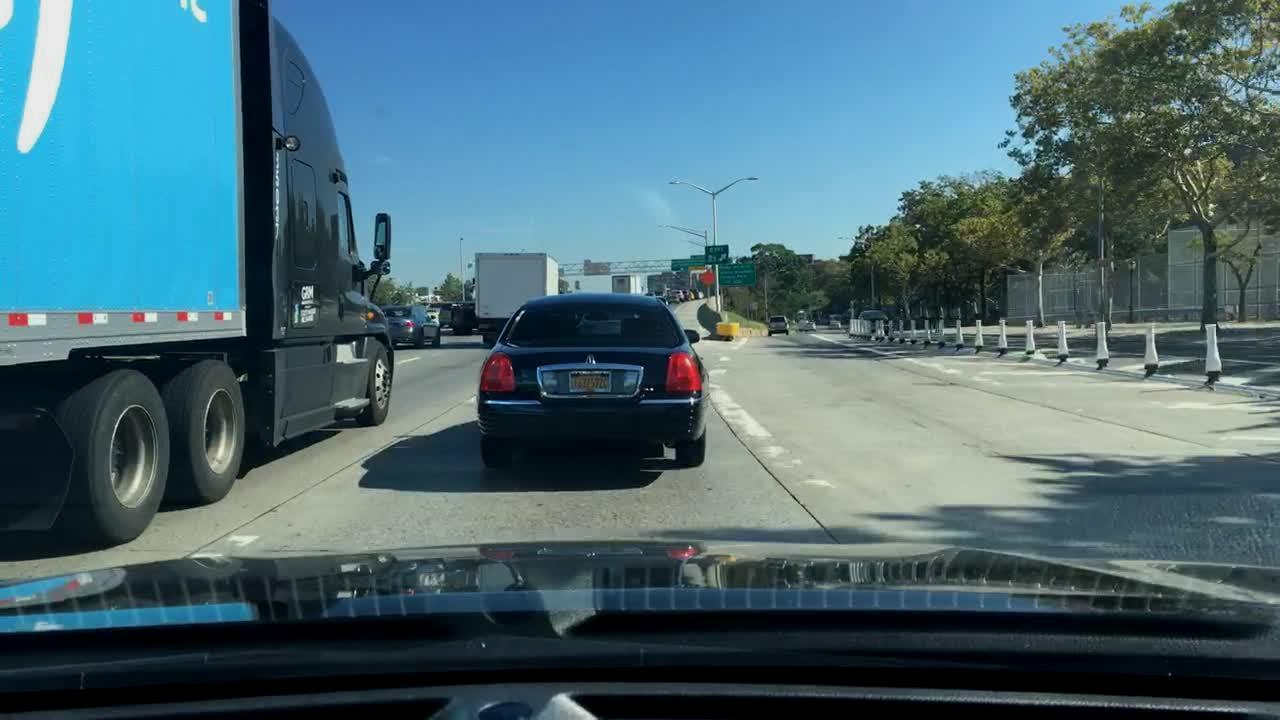lincoln: (583, 352, 602, 368)
